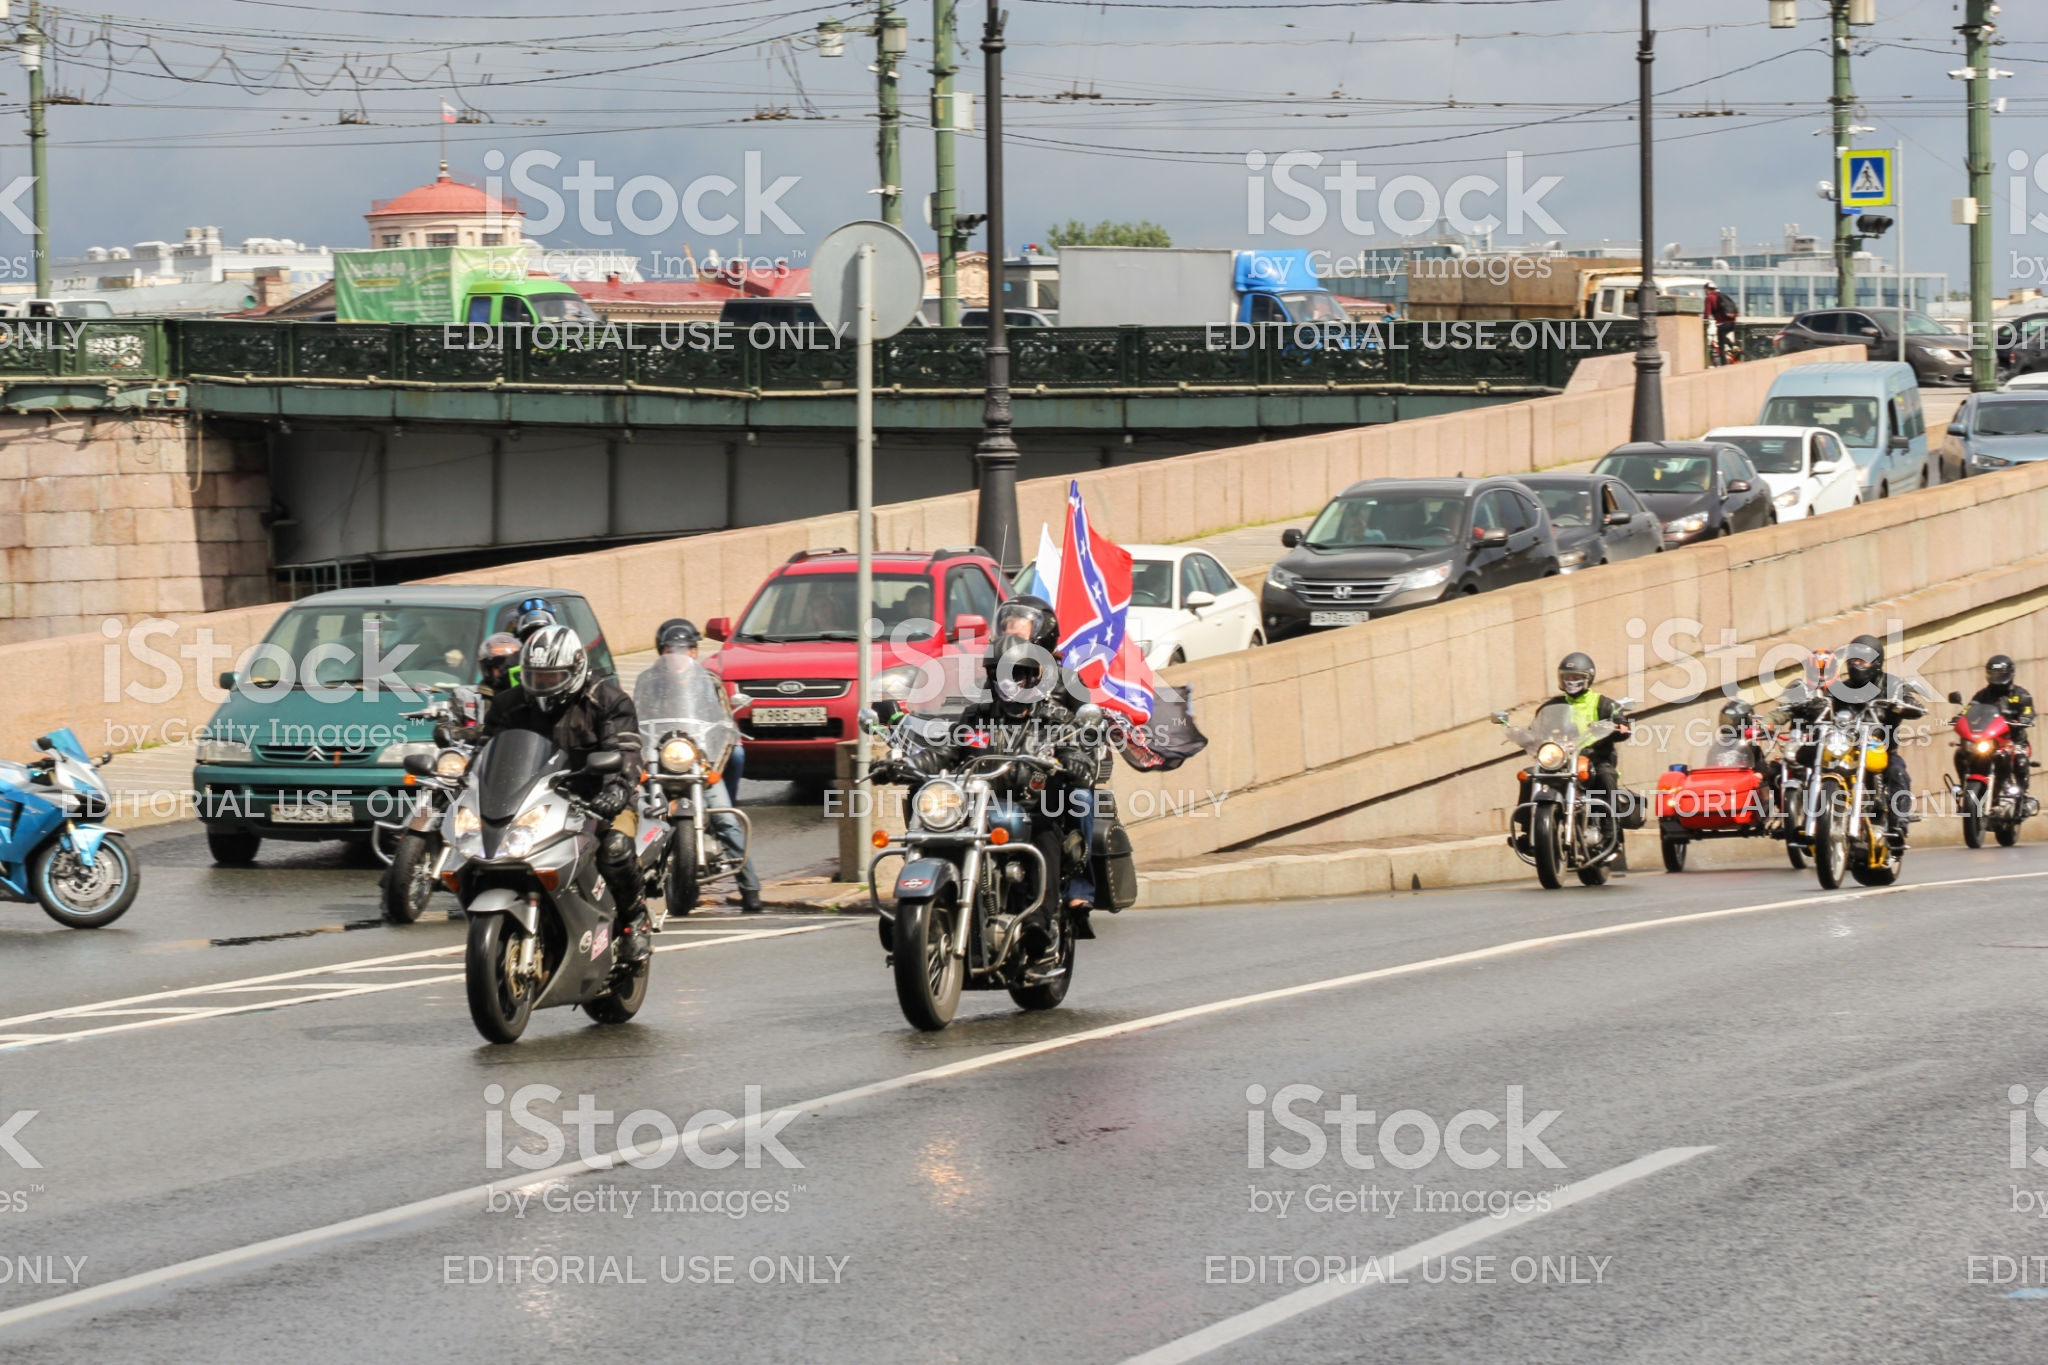helmet: (515, 625, 601, 696), (988, 602, 1057, 666), (1549, 651, 1597, 698)
